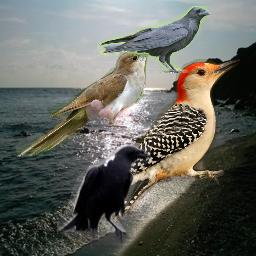Crow: (56, 143, 151, 251), (99, 6, 211, 73)
Cuckoo: (16, 45, 157, 157)
Woodpecker: (82, 59, 240, 228)
